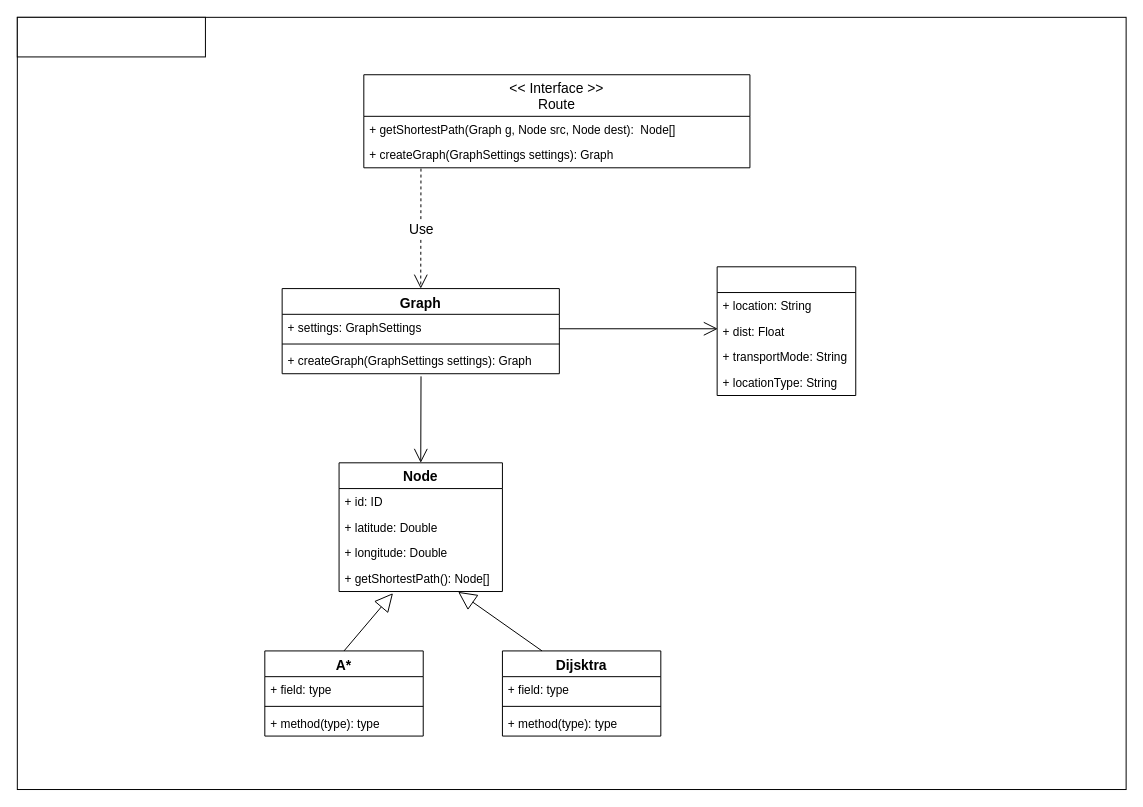
This 1143x807 diagram has some shape labels left out. The box of each missing label's shape, as (x1, y1, x2, y2) in pixels:
Application: (16, 16, 205, 57)
GraphSettings: (716, 266, 856, 396)
